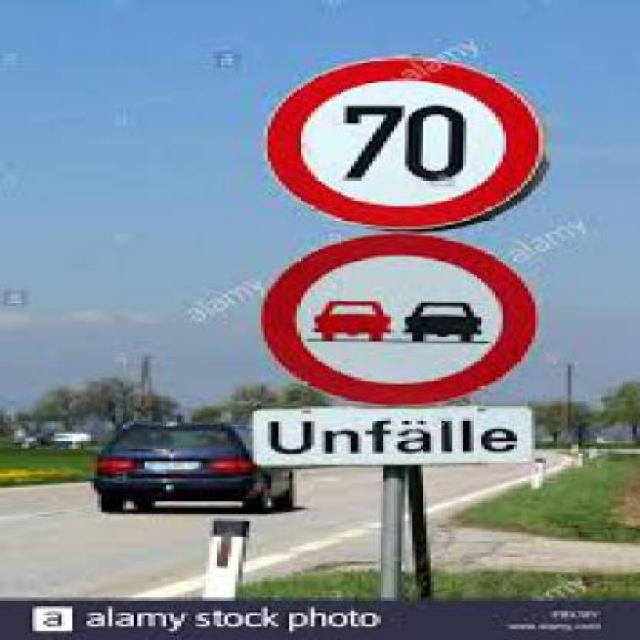traffic_sign: (279, 55, 543, 234), (271, 236, 535, 404)
